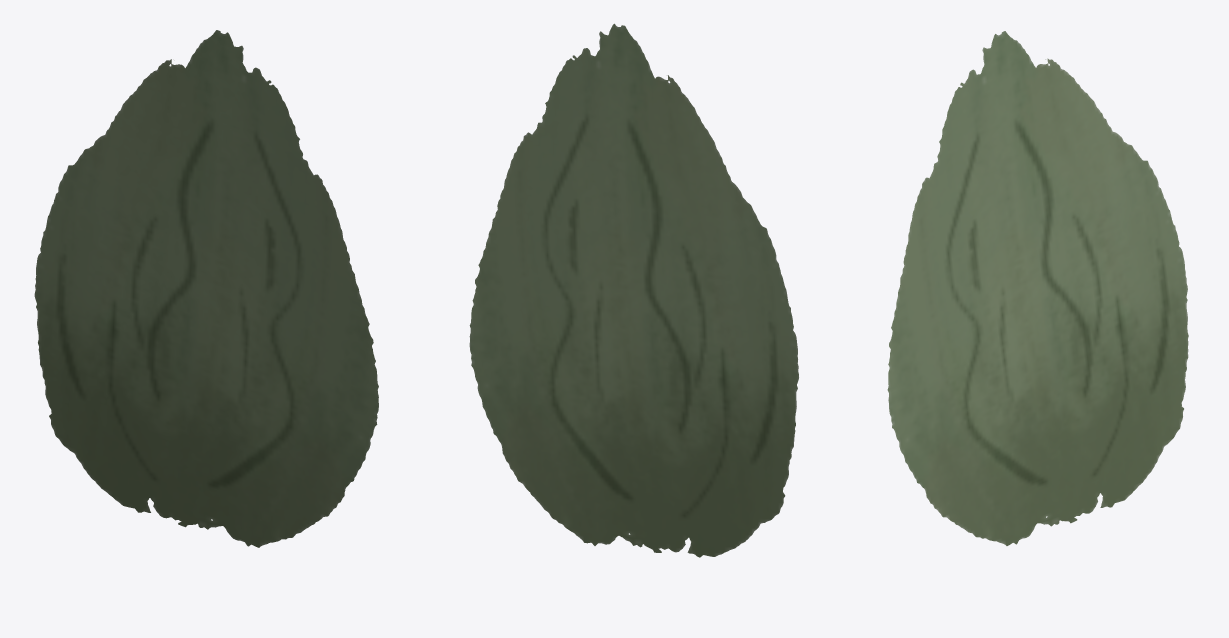
The model's file is tree3.fbx.
3 renders of one model, left to right at view 1: azimuth 30°, elevation 25°; view 2: azimuth 210°, elevation 25°; view 3: azimuth 270°, elevation 25°, orthographic. The views are drawn at different scales.
Parts seen in each view (by area): view 1: tree3; view 2: tree3; view 3: tree3.
Part boxes in pixels (x1,y1,x2,y2): tree3: (34,30,378,547); tree3: (469,23,798,557); tree3: (887,31,1188,545).
Bounding box in the file's own units: 204 × 554 × 328.
